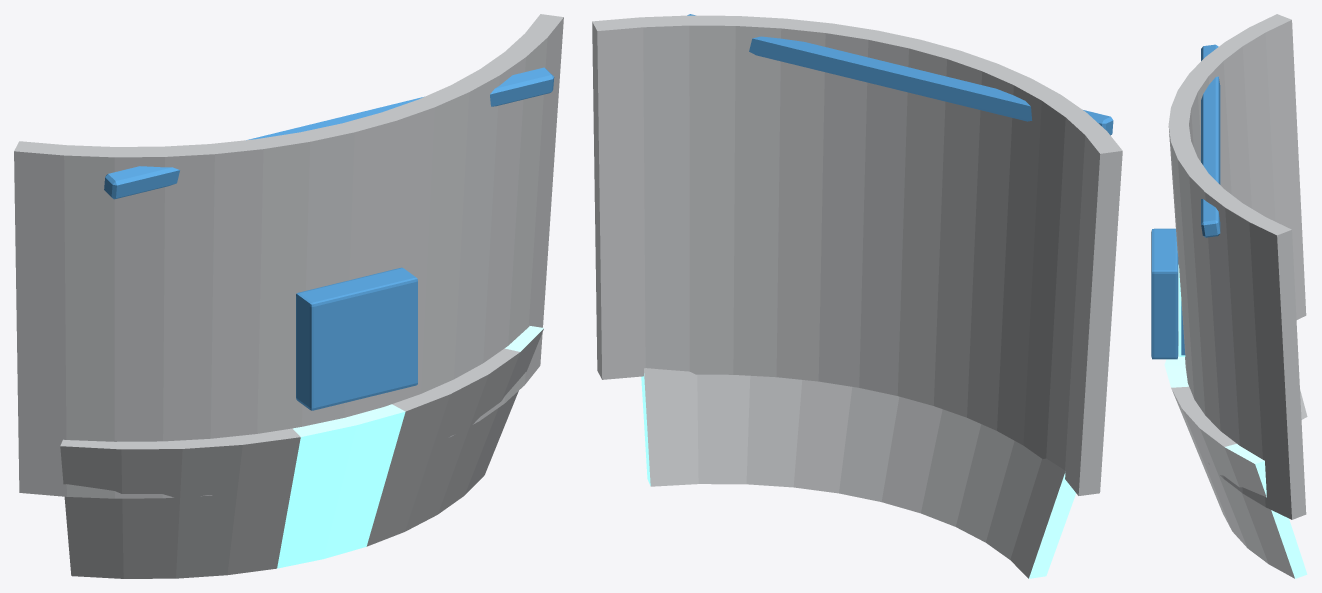
The model's file is chest__bold.glb.
3 renders of one model, left to right at view 1: azimuth 30°, elevation 25°; view 2: azimuth 150°, elevation 25°; view 3: azimuth 270°, elevation 25°, orthographic. The views are drawn at different scales.
Visible parts, largest first — view 1: armor_chest__bold_v001; view 2: armor_chest__bold_v001; view 3: armor_chest__bold_v001.
Boxes of the visible parts, box(x1,y1,x2,y2) form: armor_chest__bold_v001: box(14, 14, 563, 578); armor_chest__bold_v001: box(592, 14, 1122, 578); armor_chest__bold_v001: box(1151, 14, 1307, 578).
Size of the model in its own units: 0.589 by 0.46 by 0.1753.
